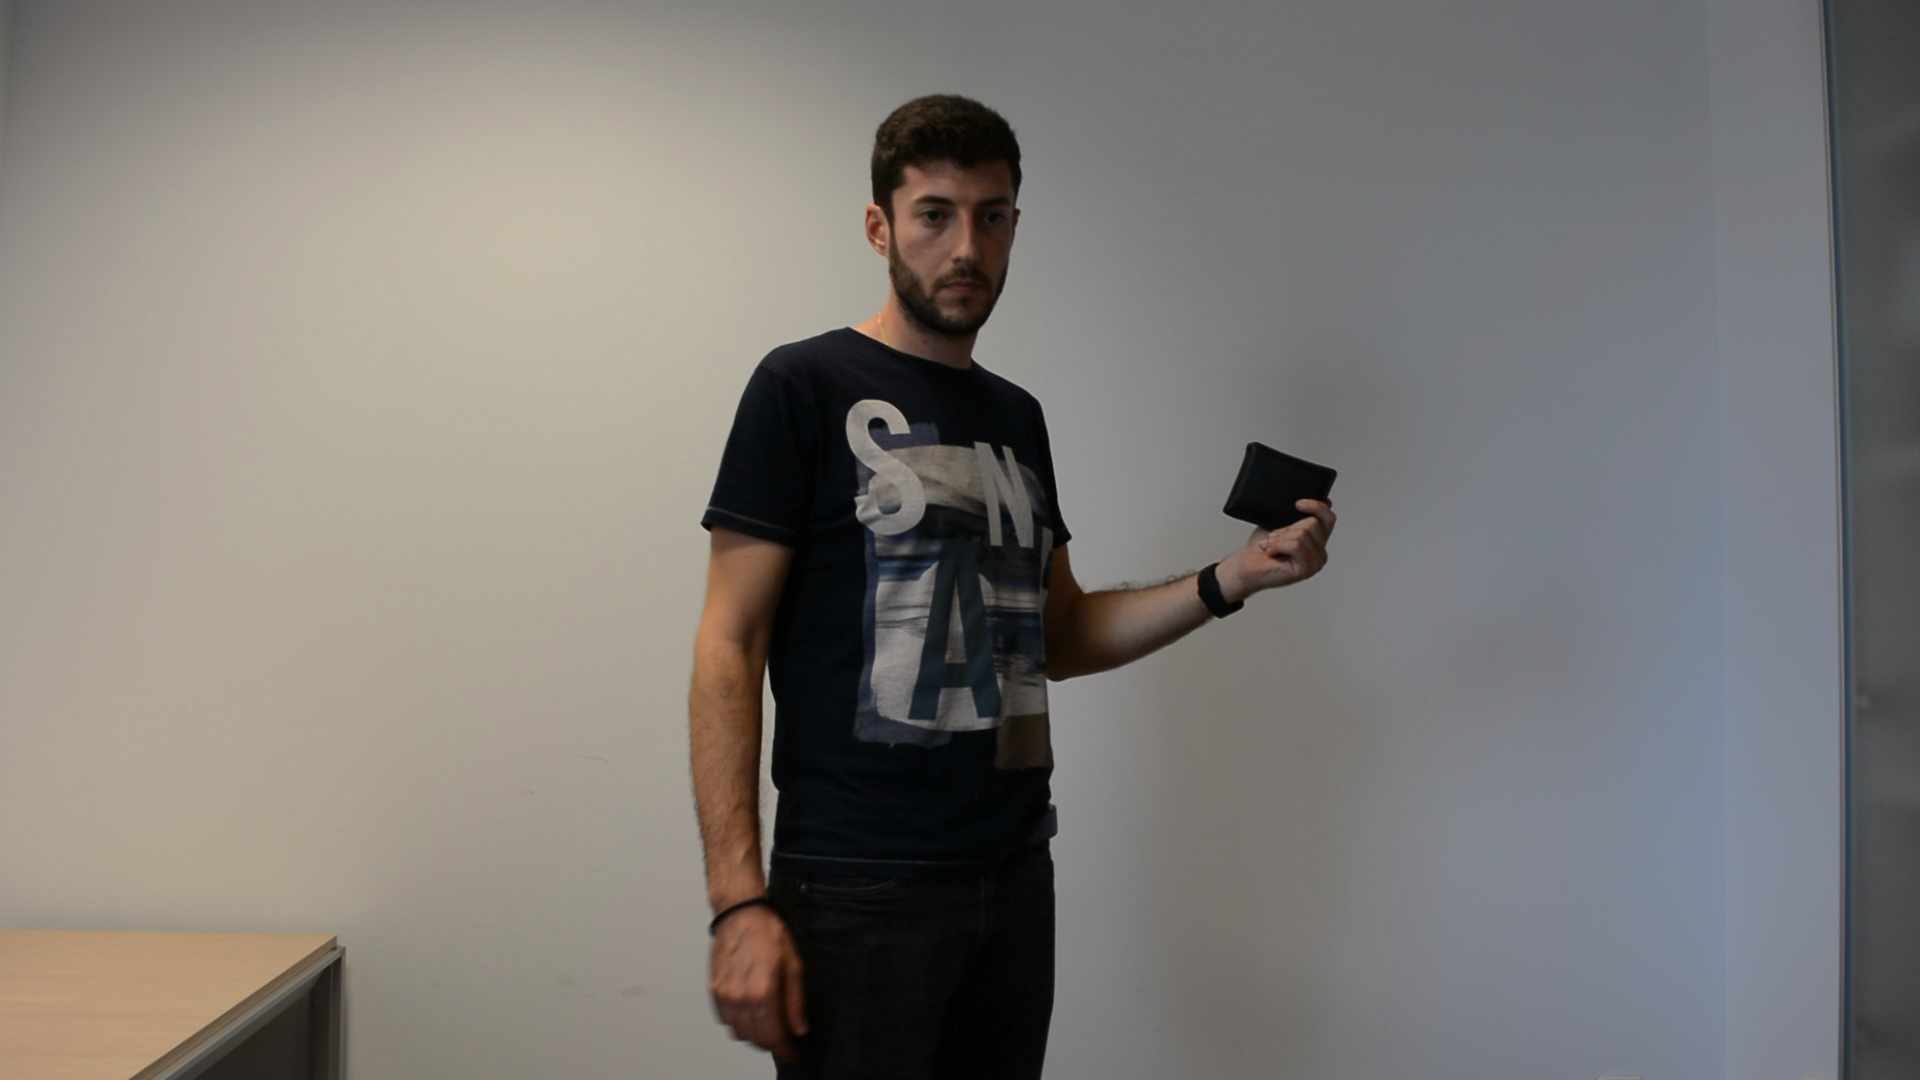monedero: (1218, 439, 1341, 531)
